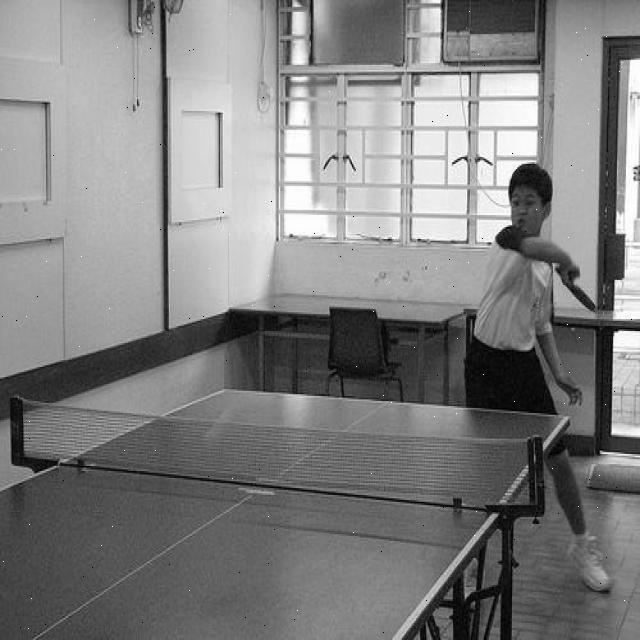ping-pong-ball: (208, 404, 239, 444)
